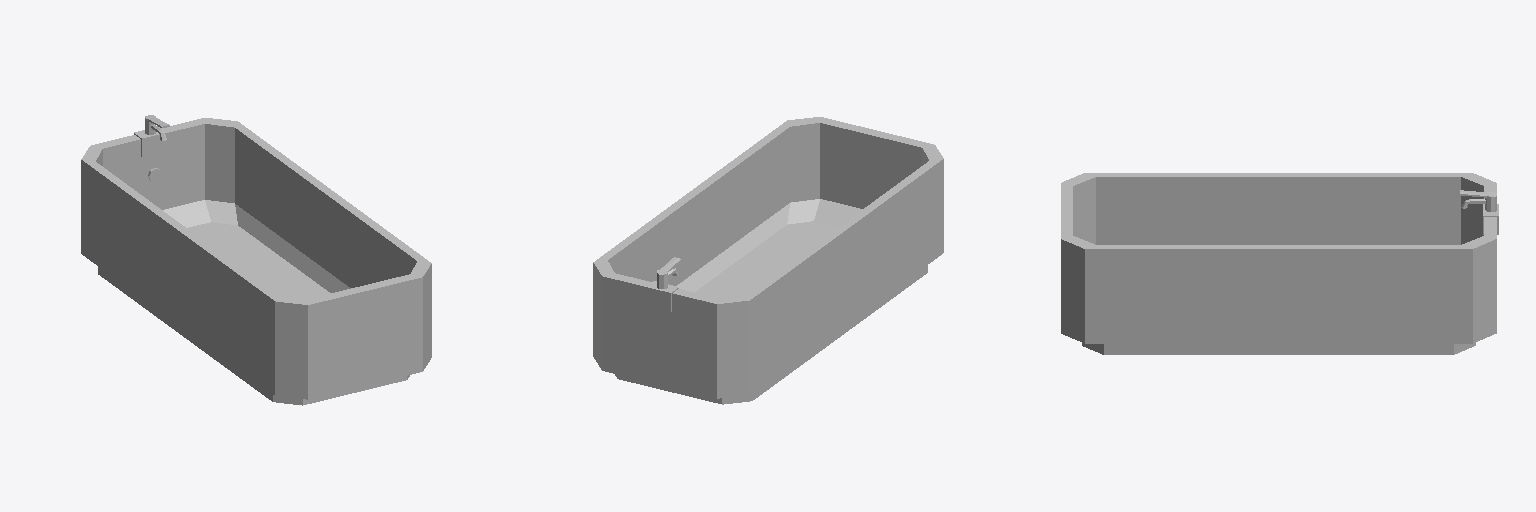
The model's file is Bathtub.obj.
The picture shows the model from 3 angles: view 1: azimuth 30°, elevation 25°; view 2: azimuth 150°, elevation 25°; view 3: azimuth 270°, elevation 25°; orthographic projection.
Parts seen in each view (by area): view 1: Cube.015; view 2: Cube.015; view 3: Cube.015.
Part boxes in pixels (bbox=[...]): Cube.015: bbox=[81, 115, 431, 405]; Cube.015: bbox=[593, 117, 943, 404]; Cube.015: bbox=[1061, 173, 1498, 354].
Bounding box in the file's own units: 161 × 126 × 390.